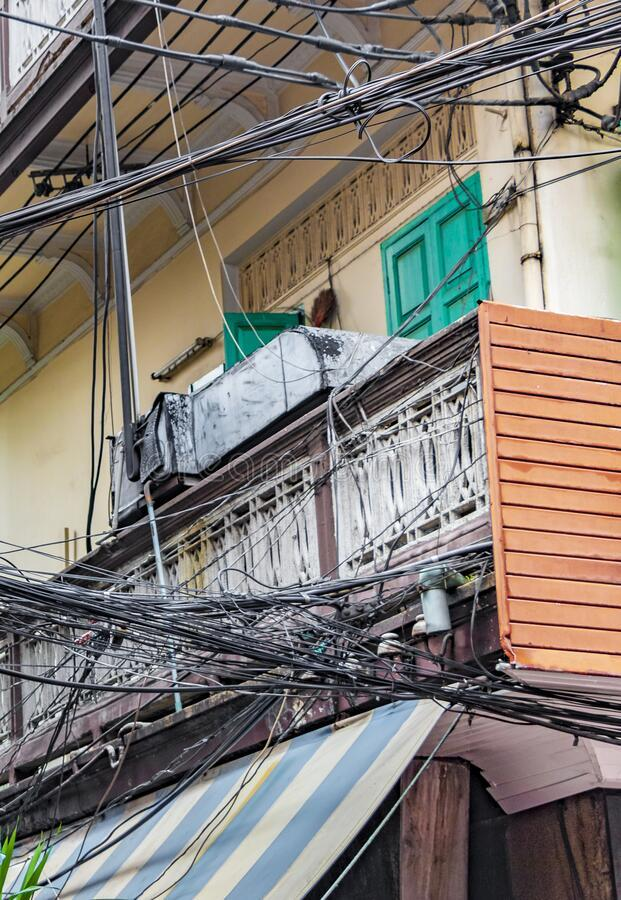wires: (0, 0, 621, 263), (6, 552, 618, 752)
